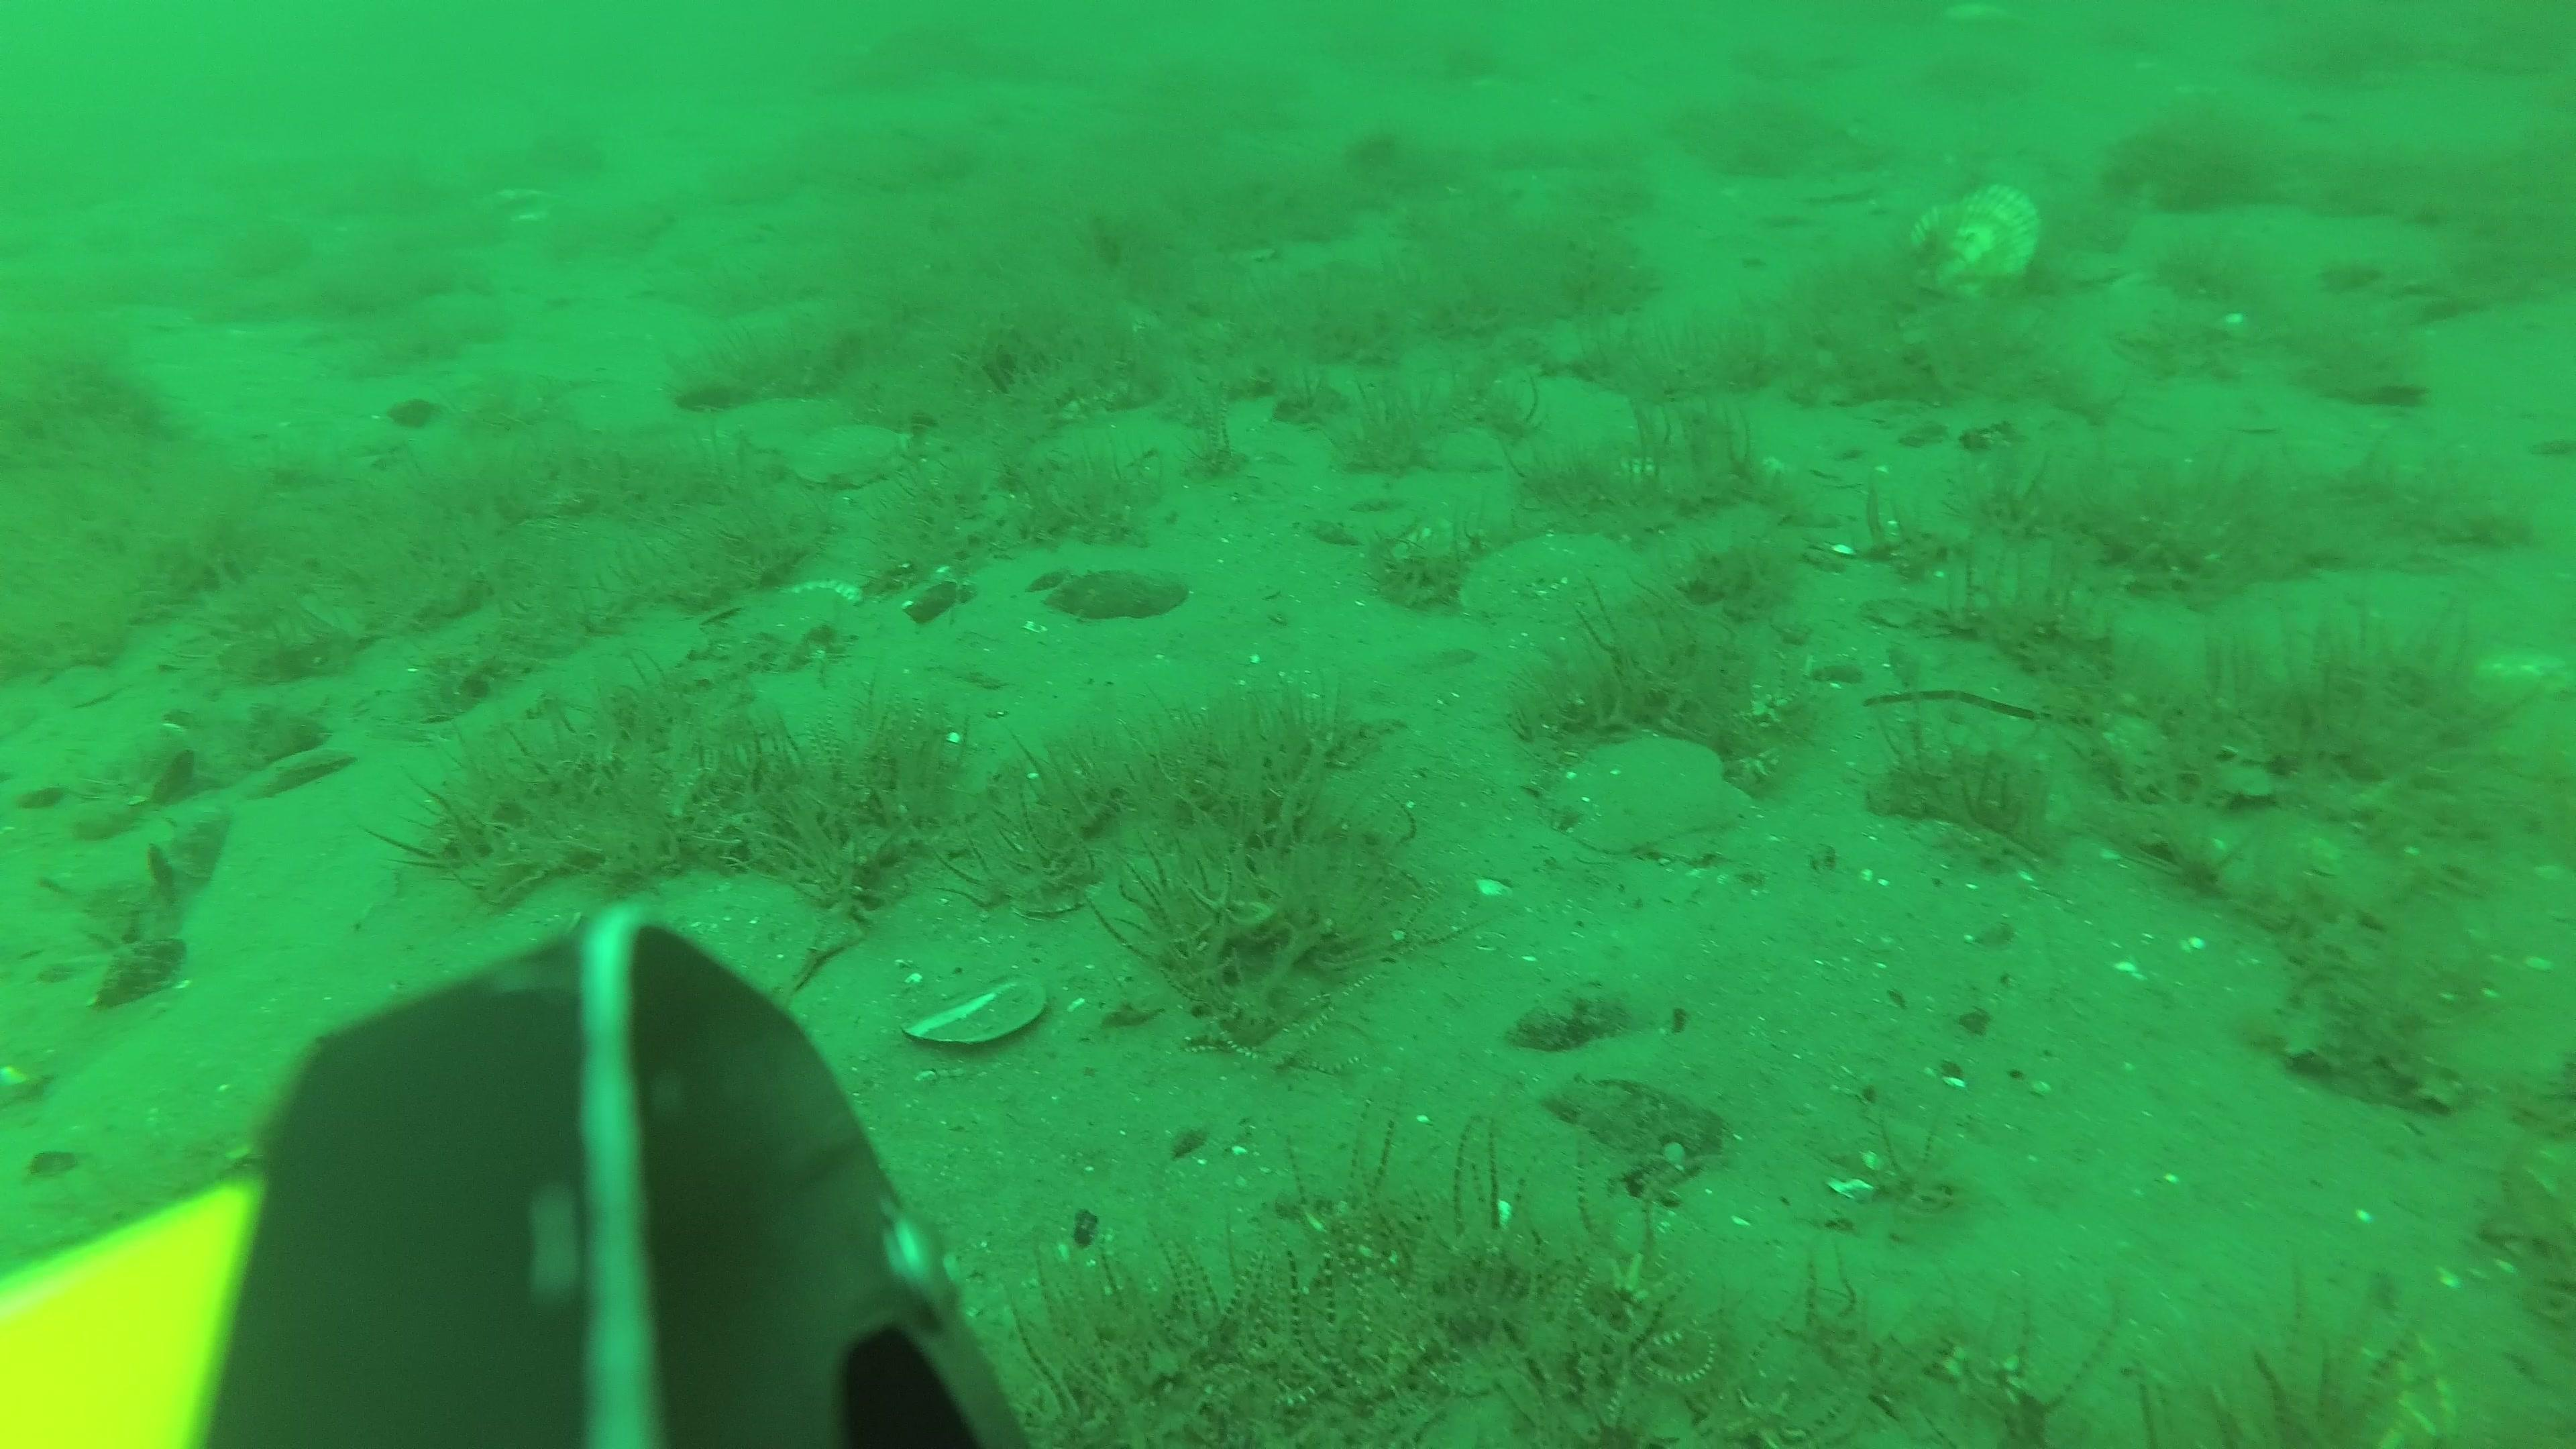scallop: (648, 869, 855, 1035), (1550, 732, 1748, 860), (1472, 531, 1647, 633), (1904, 182, 2042, 308), (801, 419, 911, 492), (732, 395, 846, 455)
